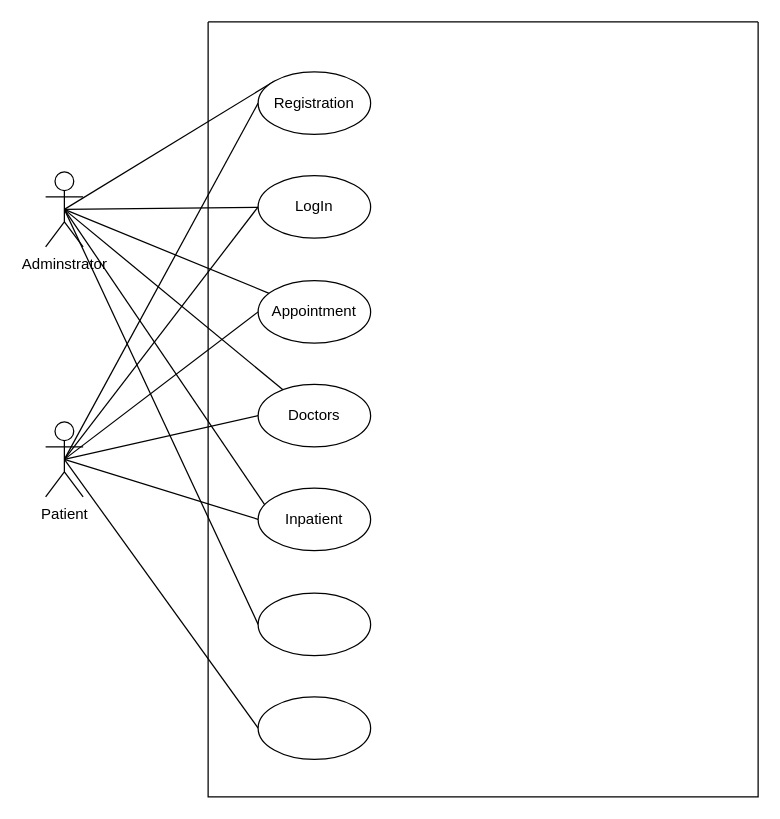
This 780x819 diagram has some shape labels left out. Each missing label, with the centre of its shape:
"Outpatient" belongs at (x=314, y=727).
"Ward" belongs at (x=314, y=624).
